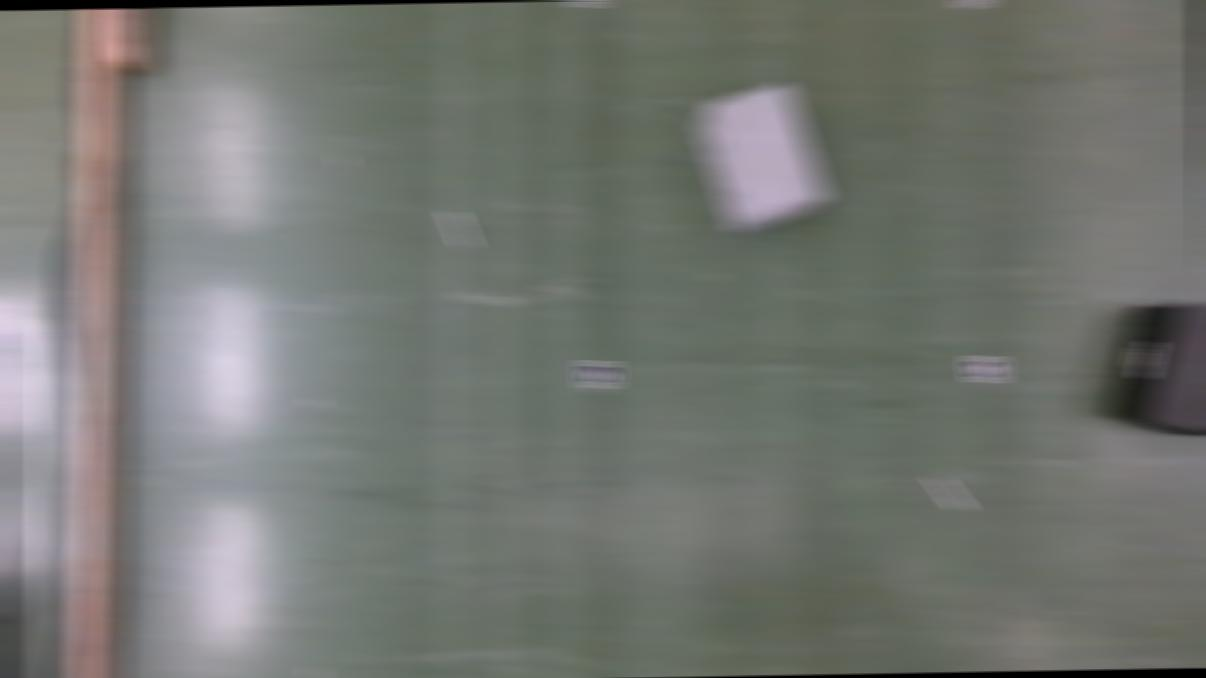probes: (928, 474, 970, 512), (444, 210, 476, 250)
rako: (692, 80, 828, 236), (1099, 299, 1206, 440)
